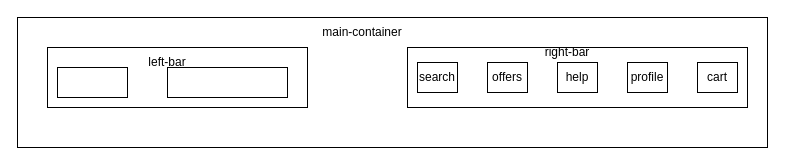
This 785x165 diagram has some shape labels left out. The box of each missing label's shape, as (x1, y1, x2, y2) in pixels:
logo: (56, 66, 128, 98)
place: (166, 66, 288, 98)
